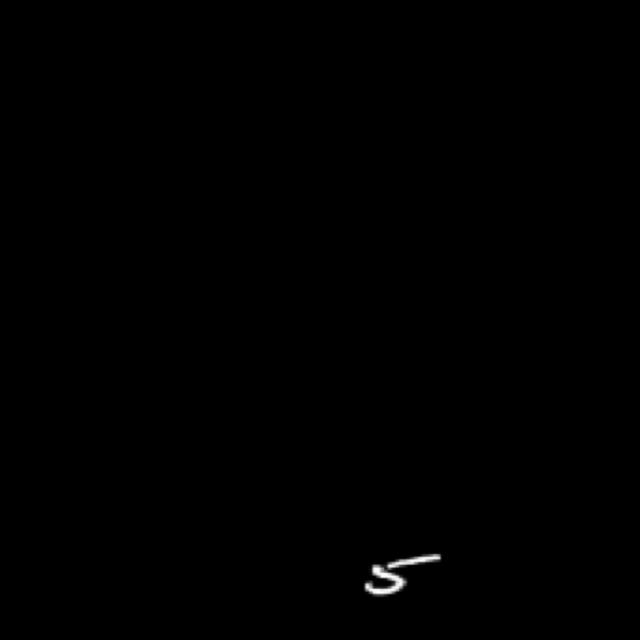five -5-: (351, 549, 446, 600)
